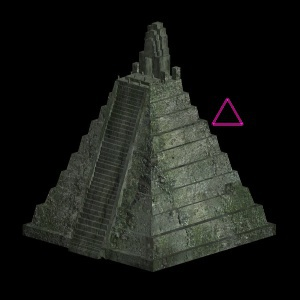triangle: (207, 93, 246, 130)
